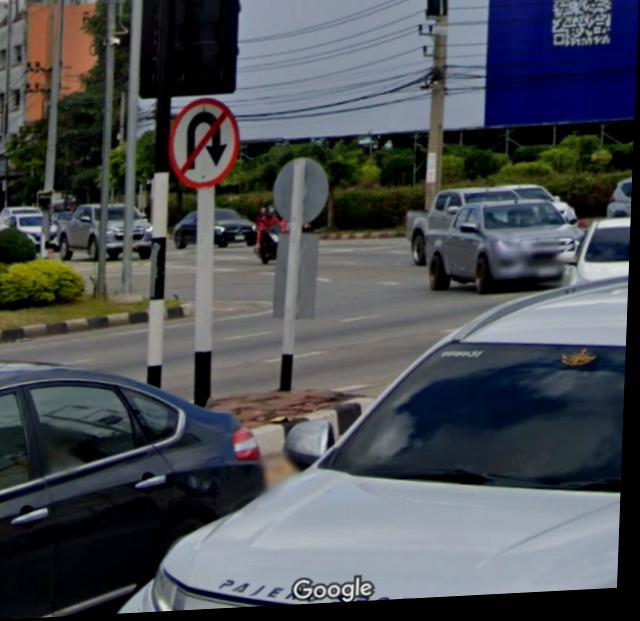not_u_turn_right: (164, 97, 245, 190)
